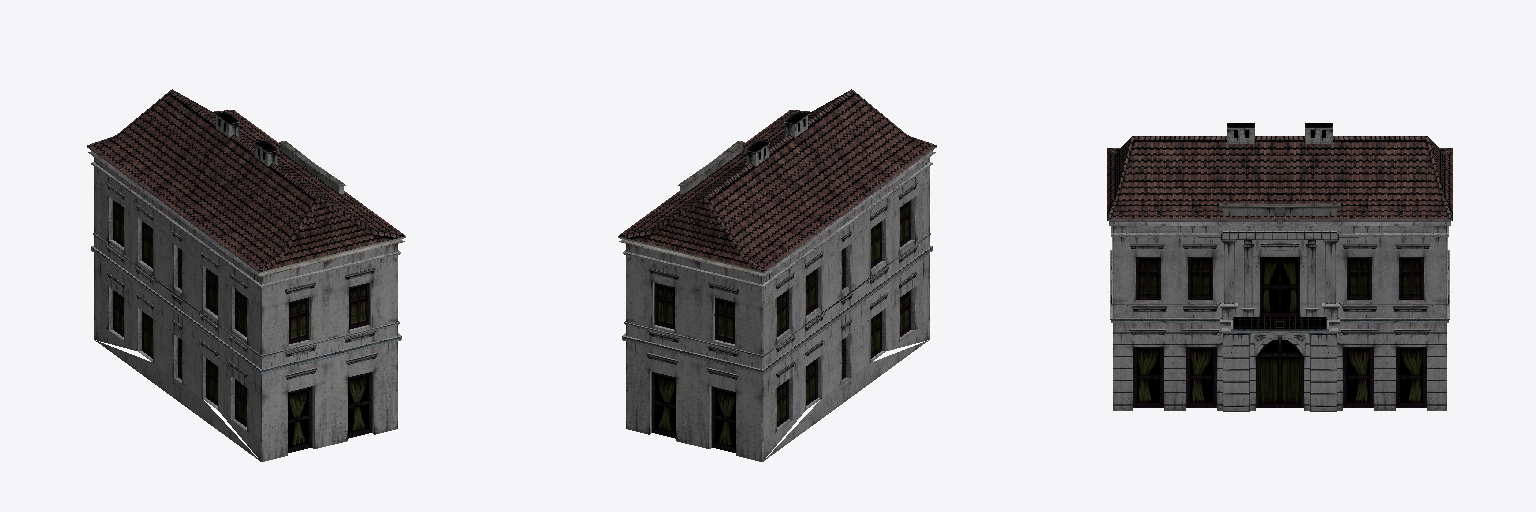
3 renders of one model, left to right at view 1: azimuth 30°, elevation 25°; view 2: azimuth 150°, elevation 25°; view 3: azimuth 270°, elevation 25°, orthographic.
Visible parts, largest first — view 1: City_building_017.001; view 2: City_building_017.001; view 3: City_building_017.001.
Boxes of the visible parts, x1,y1,x2,y2 form: City_building_017.001: [87, 89, 405, 461]; City_building_017.001: [618, 89, 936, 461]; City_building_017.001: [1107, 123, 1452, 411].
Size of the model in its own units: 1.4 by 2.04 by 2.54.
1 materials, 1 textured.